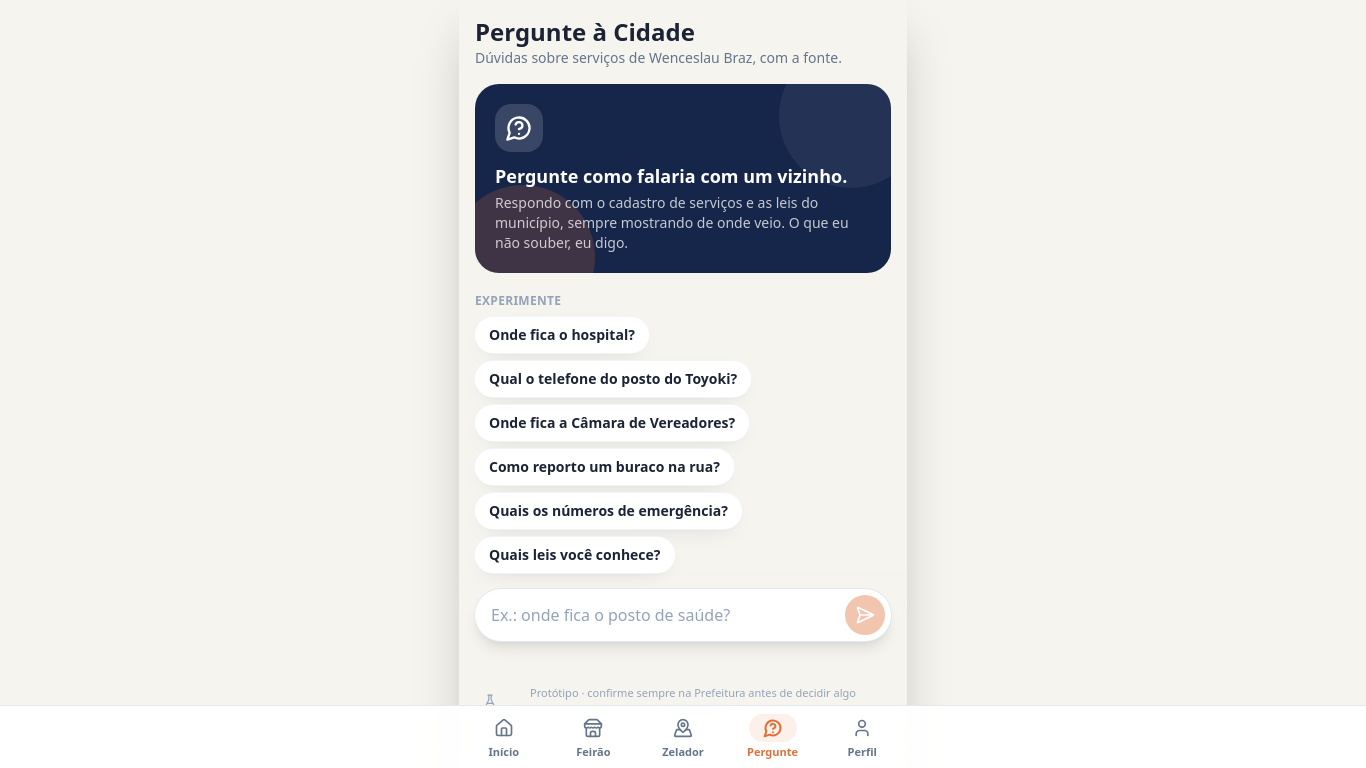
Test: Pergunte à Cidade: tela › sugestão do hospital responde com o cartão (Ligar e Ver no mapa)
Click the button "Onde fica o hospital?" at (562, 335), box [475,317,649,353]
(page scrolled)
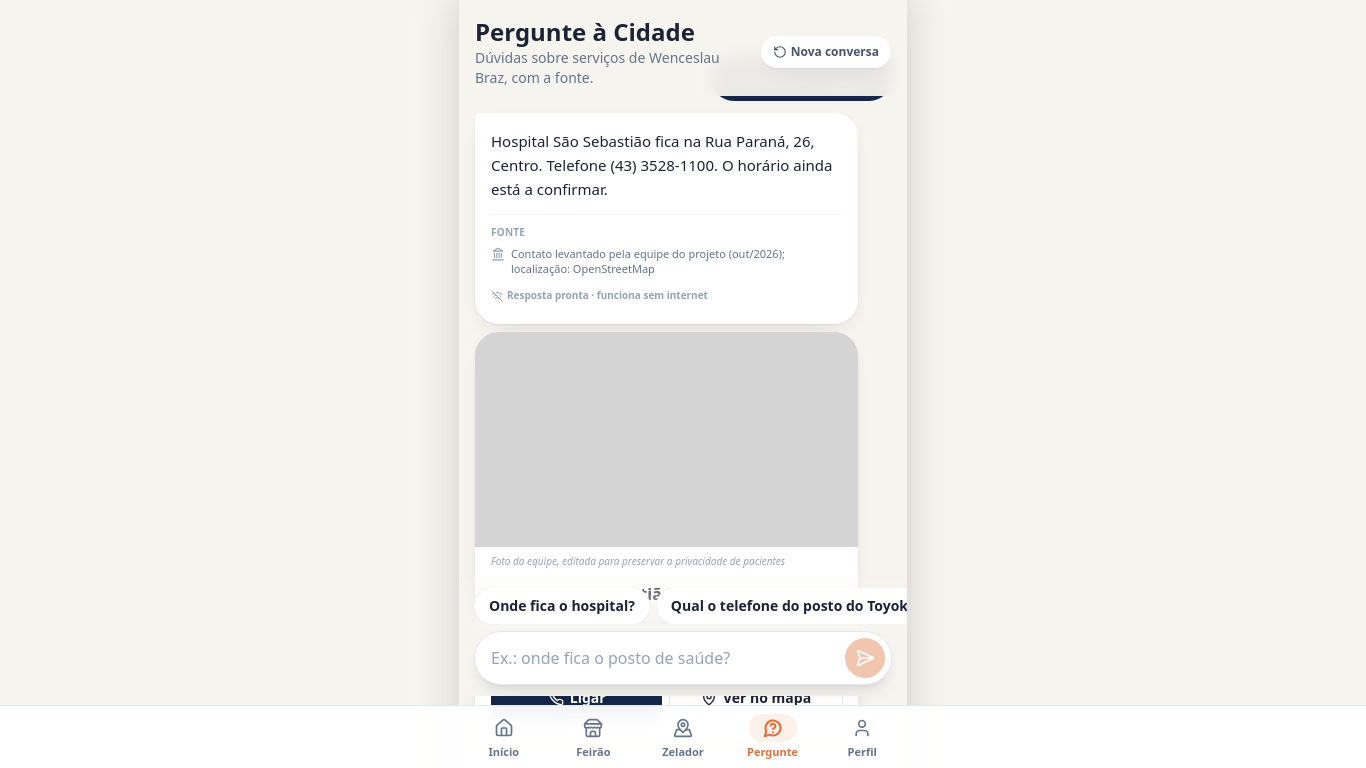
Check: the text "Resposta pronta · funciona sem internet" is shown, box [491,288,708,303]
Check: the text "Fonte" is shown, box [491,225,525,239]
